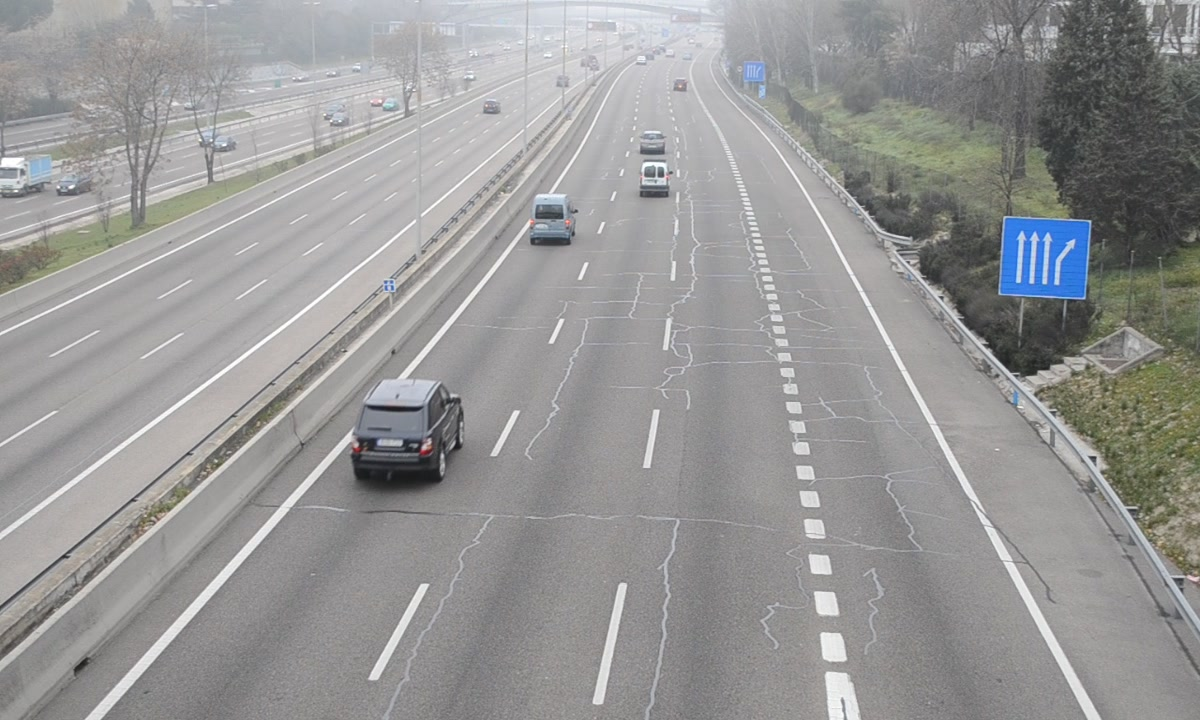car: (354, 379, 462, 474), (637, 128, 668, 155)
van: (531, 192, 575, 242), (639, 159, 670, 193)
